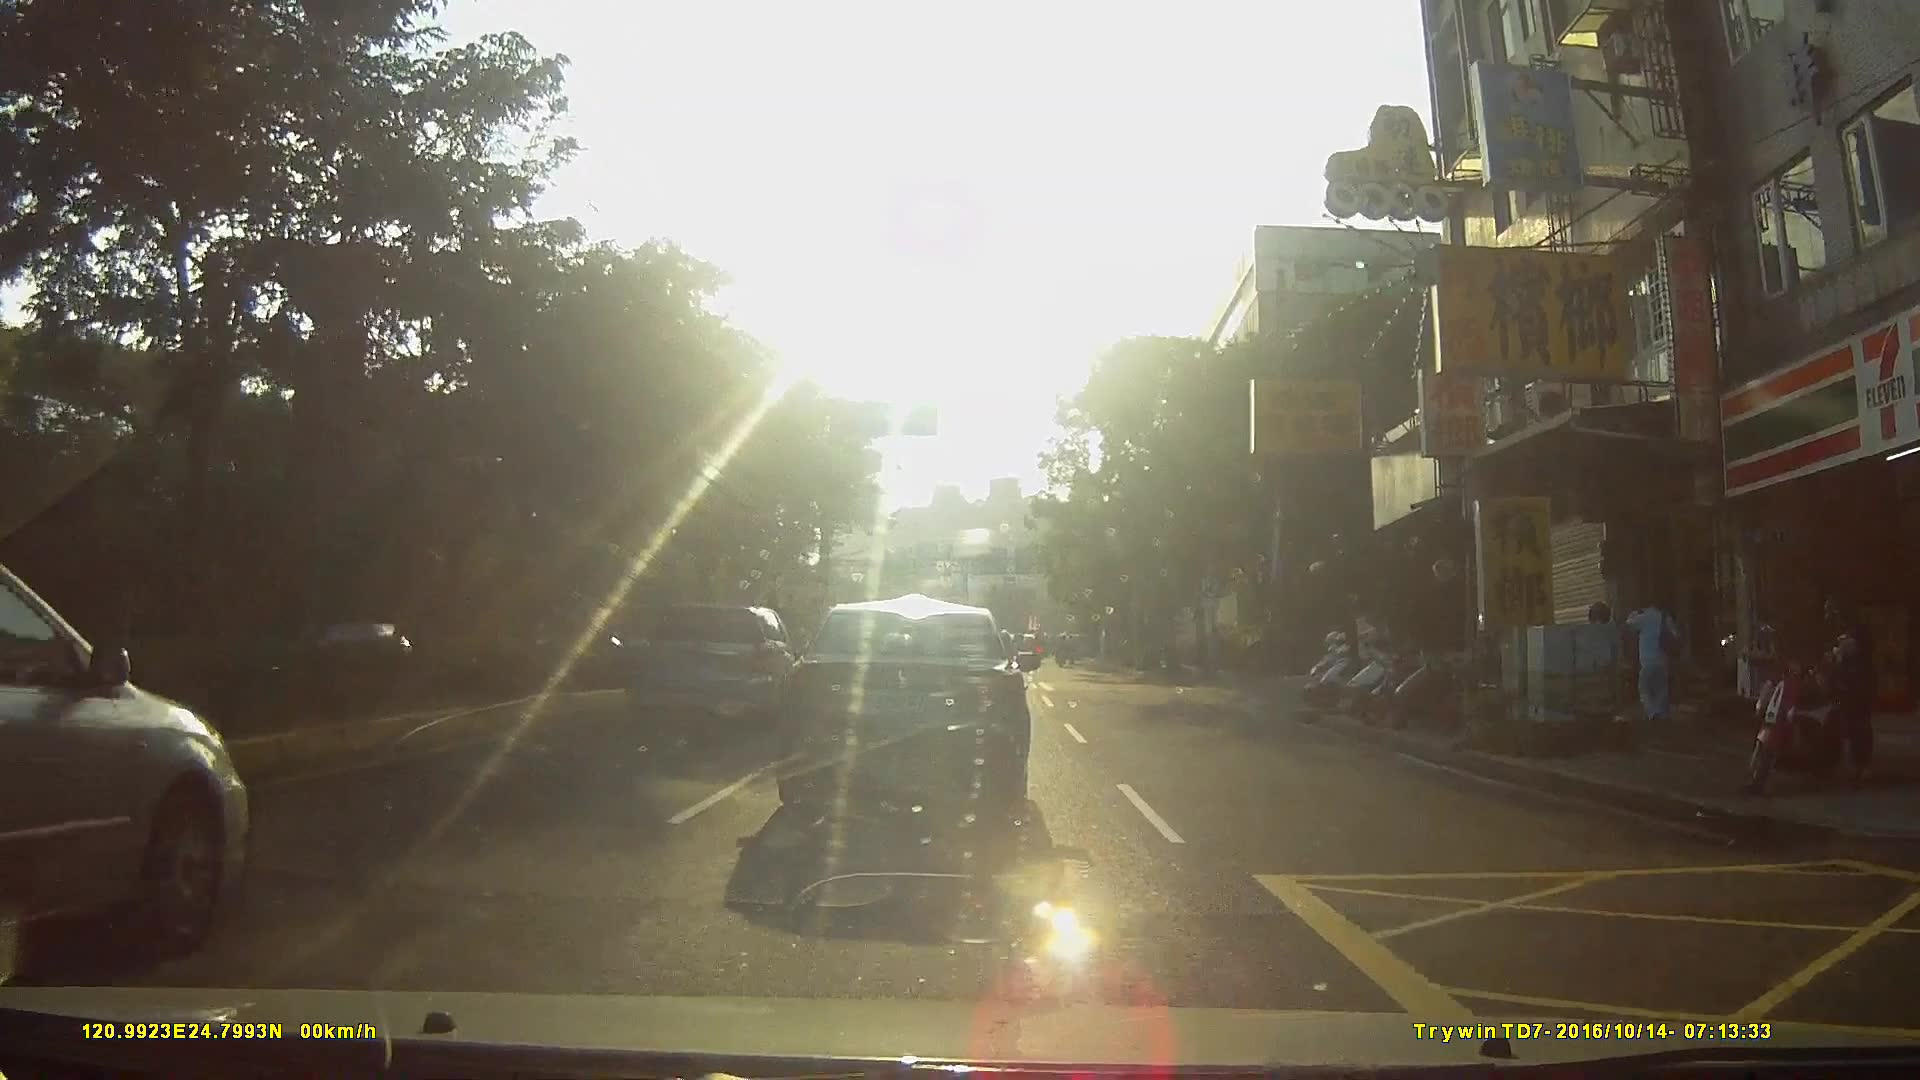pedestrian: (1822, 611, 1887, 787), (1627, 587, 1689, 738)
vehicle: (1, 560, 252, 983), (785, 591, 1059, 830), (643, 602, 805, 728)
